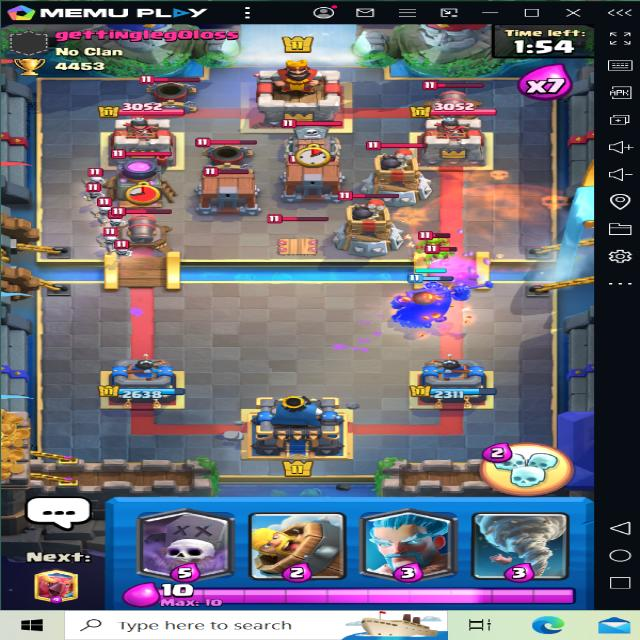bomb-tower: (354, 137, 434, 204), (335, 187, 412, 255)
cannon: (418, 78, 490, 122), (107, 207, 168, 251)
furnace: (107, 149, 182, 207)
goblin: (425, 242, 456, 270), (415, 232, 449, 255)
goblin-cage: (280, 150, 350, 198), (194, 166, 266, 212)
mortar: (140, 65, 207, 111), (194, 138, 257, 168)
skeleton: (104, 210, 135, 232), (116, 236, 145, 258), (75, 172, 108, 189), (92, 230, 126, 246), (96, 197, 116, 216), (88, 186, 107, 200)
tesla-closed: (264, 212, 330, 256)
tombstone: (278, 116, 352, 159)
